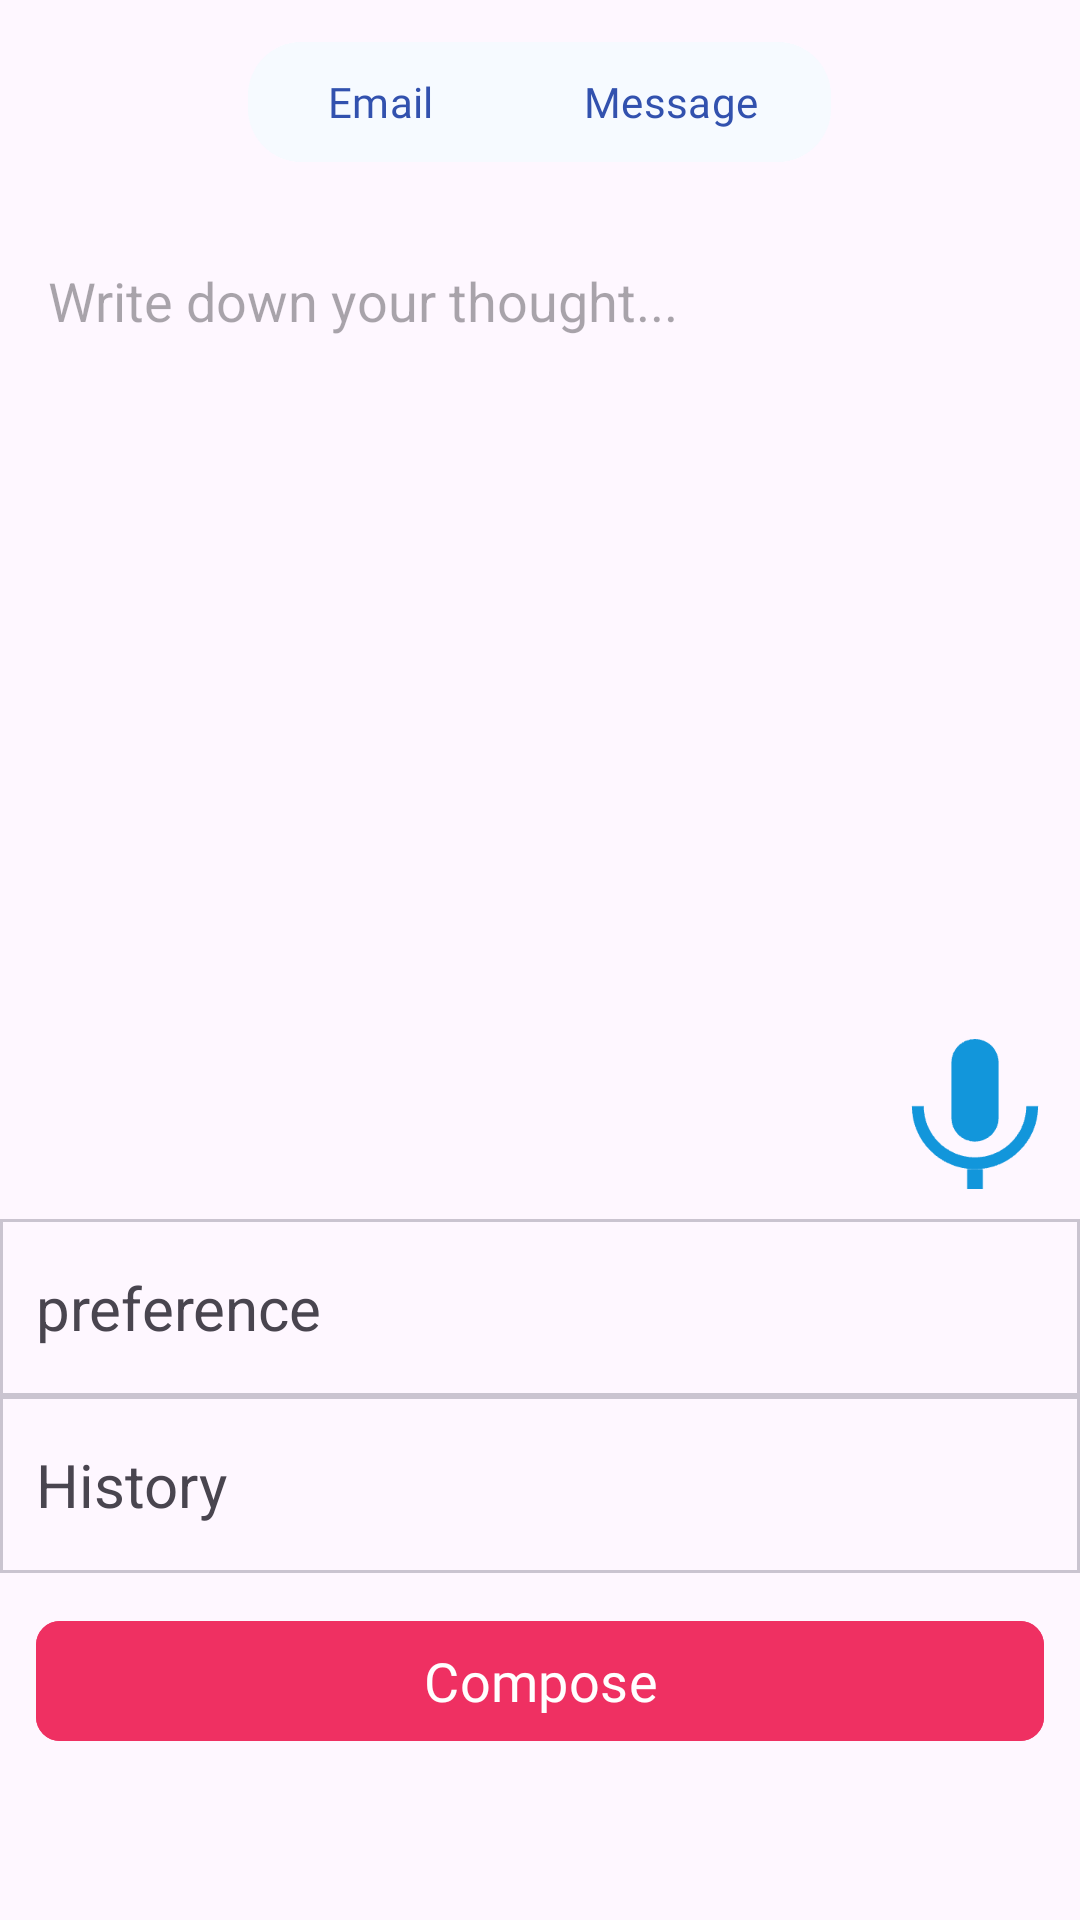

Where icons sit on this 1080 x 1920 app screen, as (x1, y1, x2, y2):
audio: (912, 1039, 1039, 1189)
